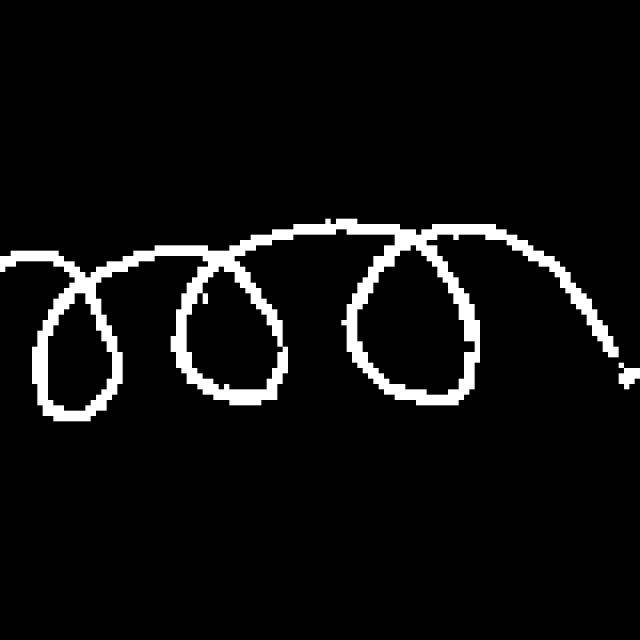inductor: (14, 184, 535, 461)
